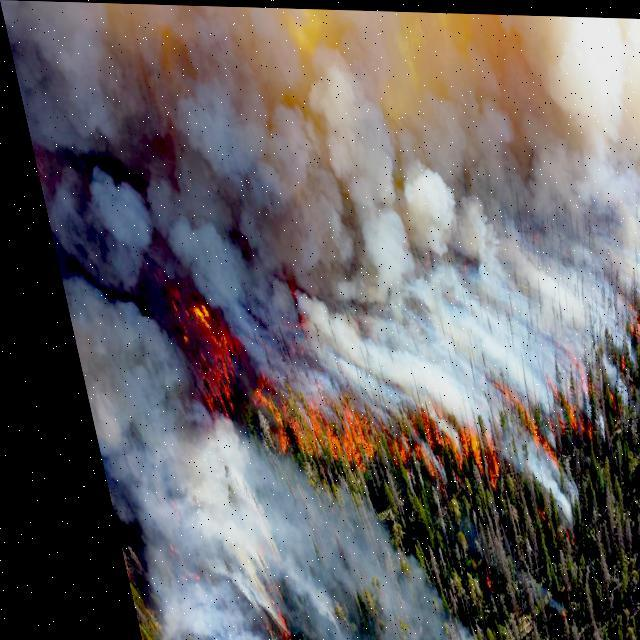Fire: (242, 389, 480, 478), (475, 342, 597, 456), (152, 288, 216, 404)
